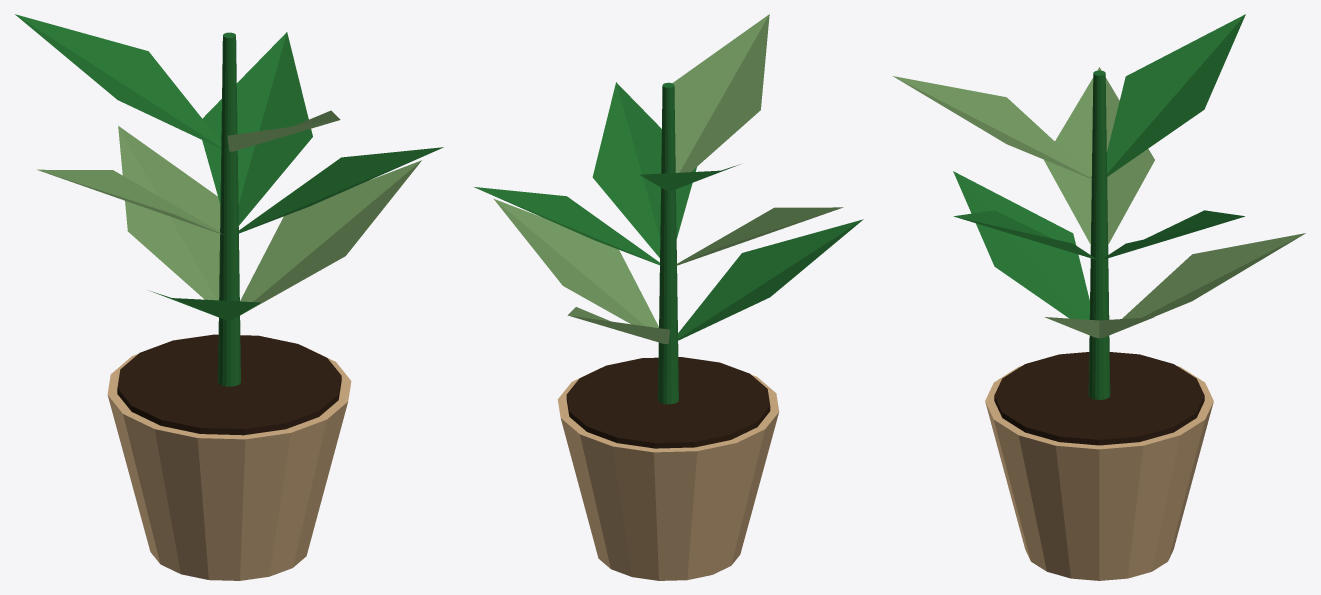
Rendered from plant.obj.
3 views of the same model, side by side, from view 1: azimuth 30°, elevation 25°; view 2: azimuth 150°, elevation 25°; view 3: azimuth 270°, elevation 25° (orthographic). The views are drawn at different scales.
Parts seen in each view (by area): view 1: plant; view 2: plant; view 3: plant.
Part boxes in pixels (x1,y1,x2,y2): plant: (15, 14, 443, 580); plant: (474, 14, 863, 580); plant: (893, 14, 1305, 580).
Size of the model in its own units: 1.34 by 1.7 by 1.34.
